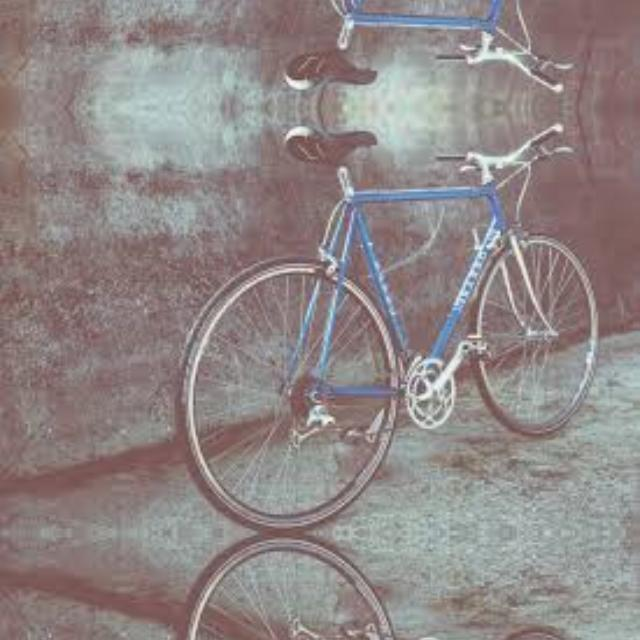obstacle: (170, 111, 622, 527), (170, 0, 622, 103), (170, 539, 622, 640)
